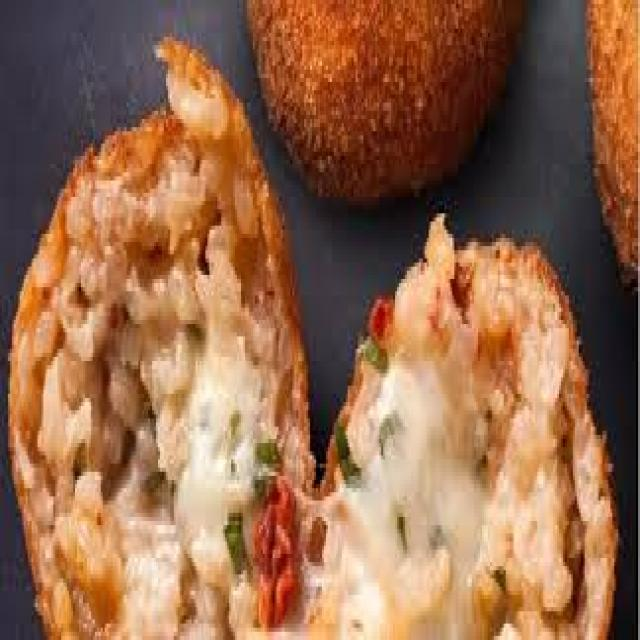organic waste: (0, 33, 312, 636), (284, 201, 616, 636), (241, 0, 527, 197), (583, 0, 638, 279)
